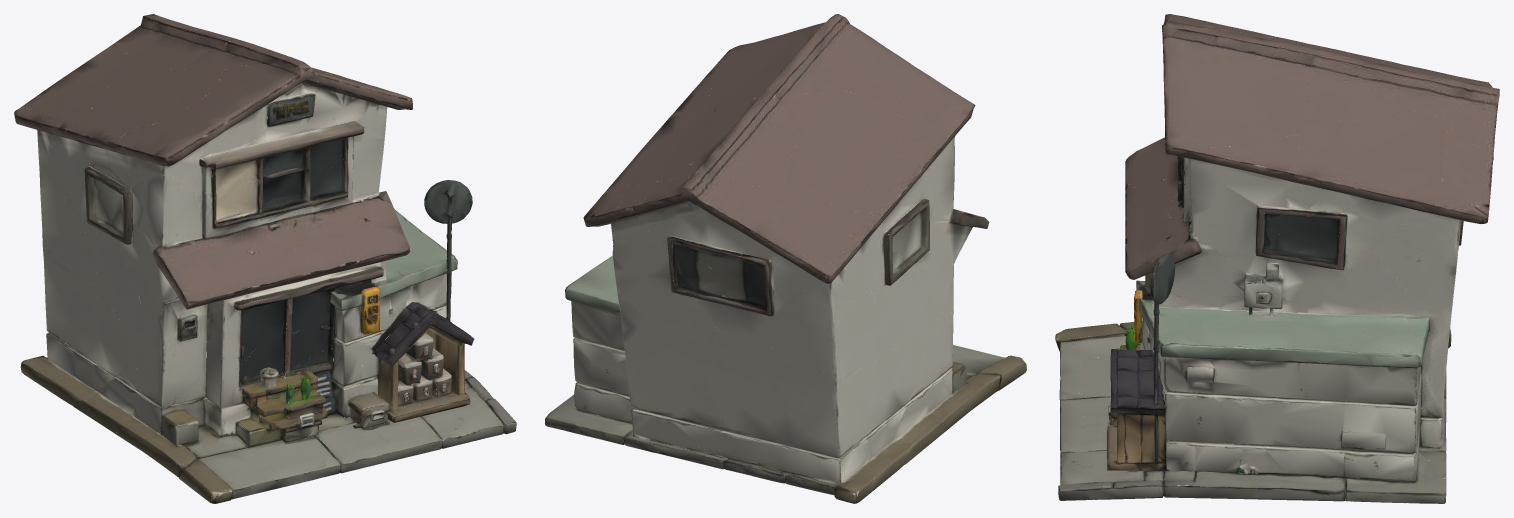
File: building7.glb
The picture shows the model from 3 angles, left to right: view 1: azimuth 30°, elevation 25°; view 2: azimuth 150°, elevation 25°; view 3: azimuth 270°, elevation 25°; orthographic projection. The views are drawn at different scales.
Visible parts, largest first — view 1: tripo_node_c286c937-96b2-4c8e-bdcc-417e03ccac6d; view 2: tripo_node_c286c937-96b2-4c8e-bdcc-417e03ccac6d; view 3: tripo_node_c286c937-96b2-4c8e-bdcc-417e03ccac6d.
Boxes of the visible parts, x1,y1,x2,y2 form: tripo_node_c286c937-96b2-4c8e-bdcc-417e03ccac6d: (14,14,516,503); tripo_node_c286c937-96b2-4c8e-bdcc-417e03ccac6d: (545,14,1026,503); tripo_node_c286c937-96b2-4c8e-bdcc-417e03ccac6d: (1055,14,1499,503).
Bounding box in the file's own units: 0.892 × 0.9794 × 1.
Materials: 1 (1 with a texture image).
